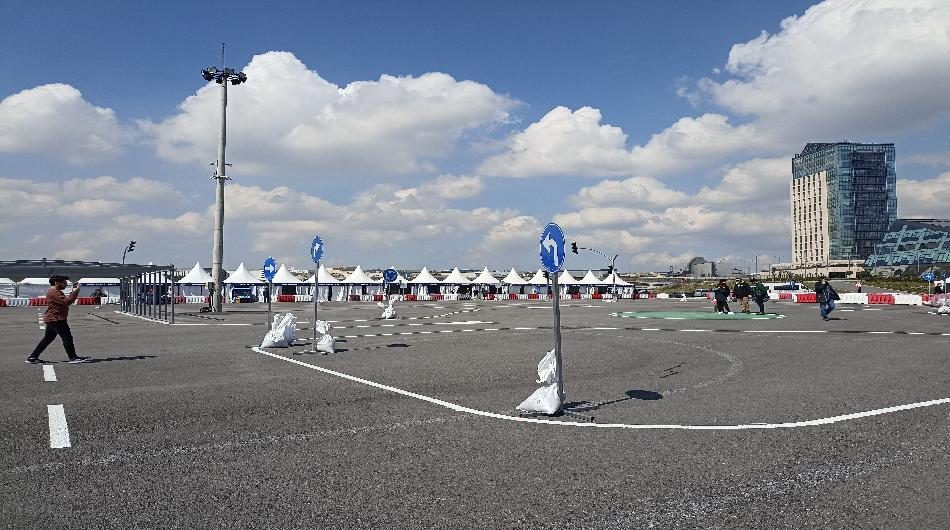saga_mecburi_1: (260, 255, 282, 283)
saga_mecburi_2: (306, 232, 334, 265)
sola_mecburi_2: (538, 221, 565, 280)
